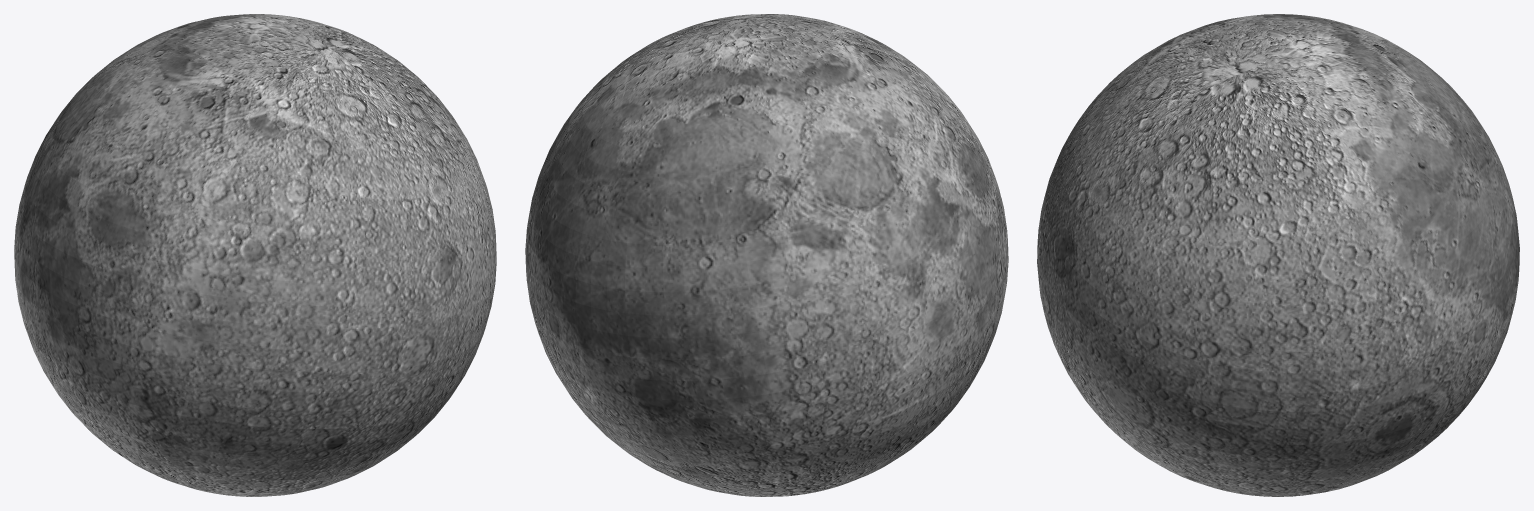
Rendered from planet.obj.
3 views of the same model, side by side, from view 1: azimuth 30°, elevation 25°; view 2: azimuth 150°, elevation 25°; view 3: azimuth 270°, elevation 25° (orthographic).
Parts seen in each view (by area): view 1: Sphere_Sphere.001; view 2: Sphere_Sphere.001; view 3: Sphere_Sphere.001.
Part boxes in pixels (x1,y1,x2,y2): Sphere_Sphere.001: [14, 14, 496, 496]; Sphere_Sphere.001: [525, 14, 1008, 496]; Sphere_Sphere.001: [1037, 14, 1519, 496].
Bounding box in the file's own units: 2 × 2 × 2.
